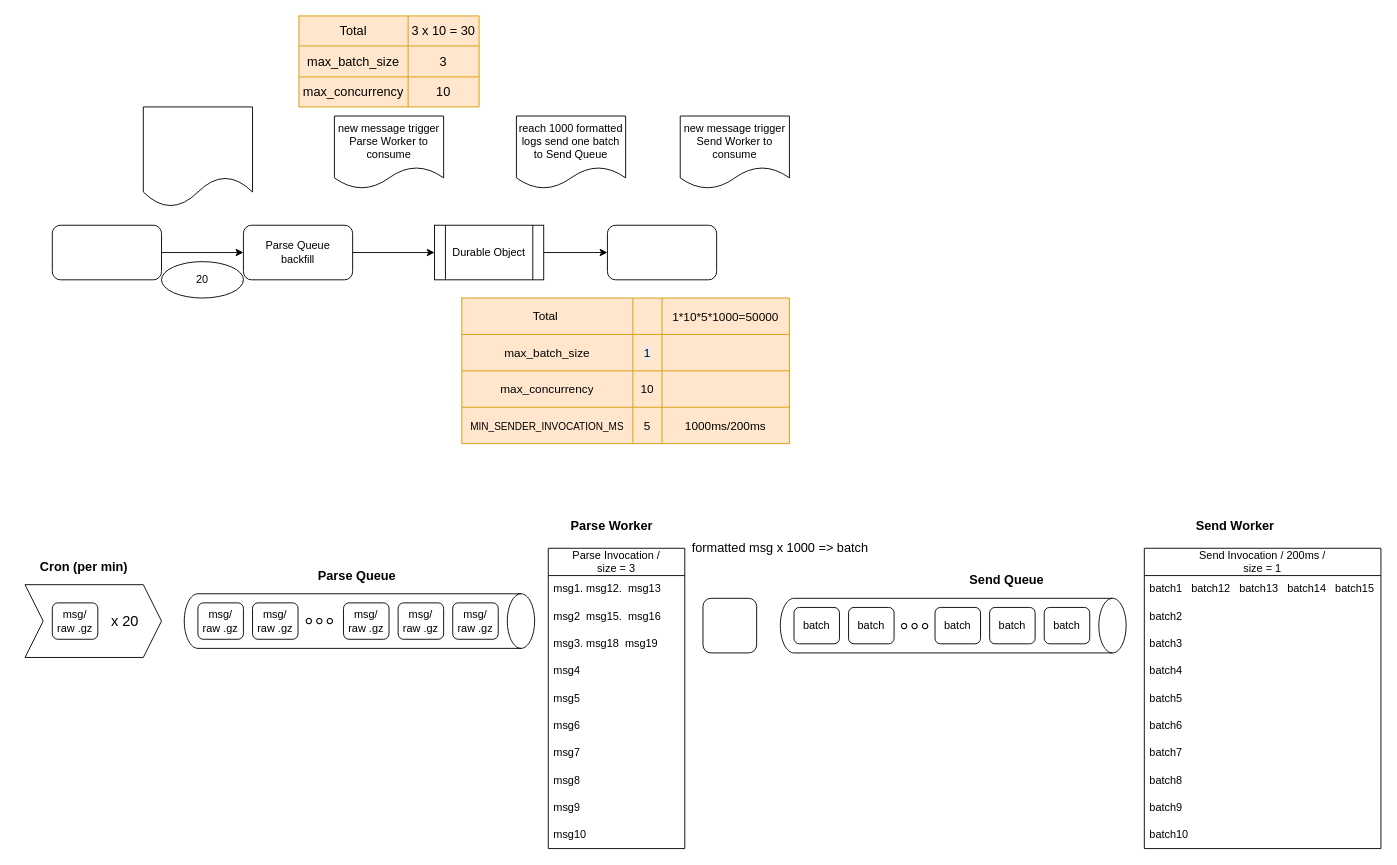
Some shapes in this 1397 by 865 pixel diagram are drawn without their labels. The shapes that lost their labels are listed below. From the top down, each one's centre as x and y in pixels, then its label:
At (197,156): "cron scan matched raw .gz file (up to 20) into Parse Queue per minute".
At (106,252): "R2".
At (662,252): "Send Queue backfill".
At (729,625): "DO".
